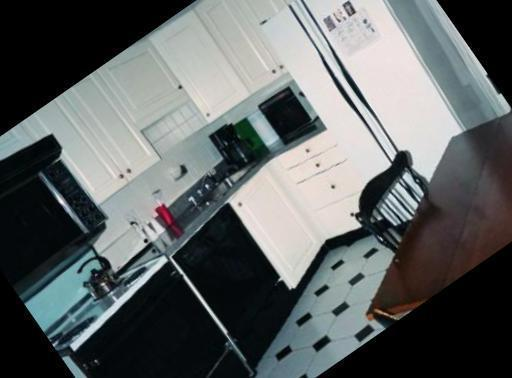Electrodomestico: (262, 0, 478, 184), (26, 253, 265, 378), (163, 198, 311, 364)
Lavaplatos: (183, 145, 268, 217)
